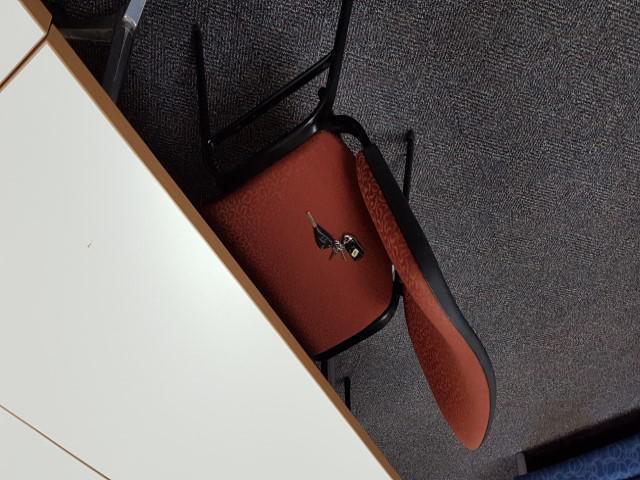key: (307, 211, 335, 248)
